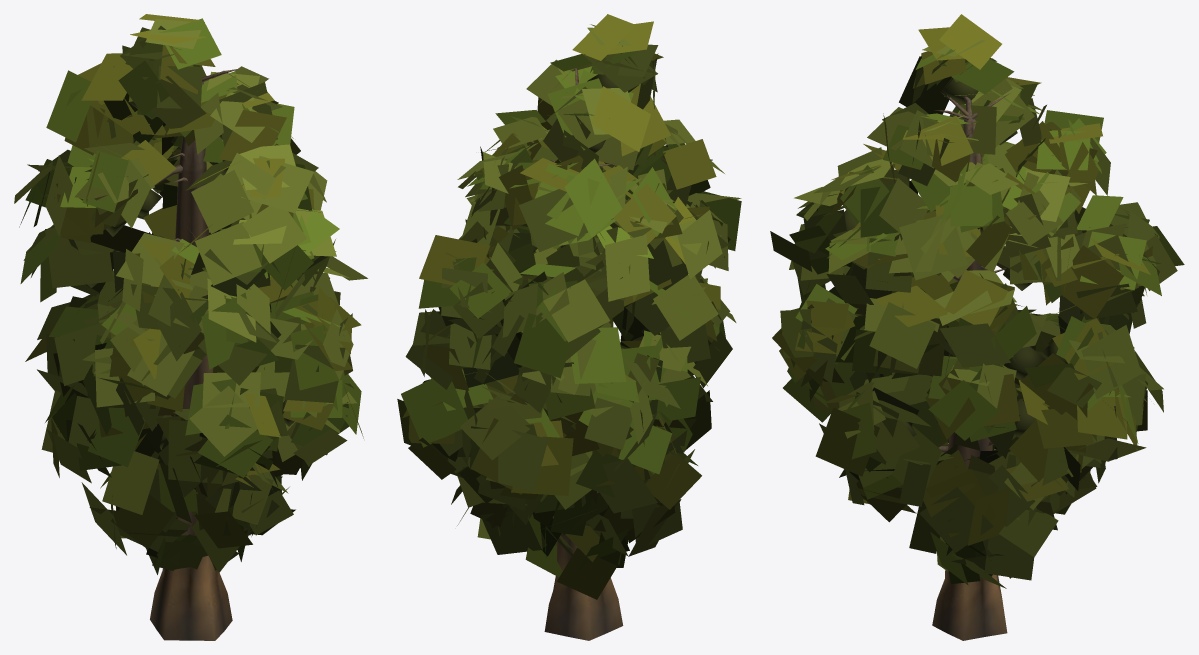
Rendered from tree-02-red.glb.
The picture shows the model from 3 angles, left to right: view 1: azimuth 30°, elevation 25°; view 2: azimuth 150°, elevation 25°; view 3: azimuth 270°, elevation 25°; orthographic projection. The views are drawn at different scales.
Visible parts, largest first — view 1: tree-02-red; view 2: tree-02-red; view 3: tree-02-red.
Boxes of the visible parts, x1,y1,x2,y2 form: tree-02-red: (14,14,367,640); tree-02-red: (397,14,741,640); tree-02-red: (770,14,1184,640).
Bounding box in the file's own units: 3.06 × 7.08 × 4.53.
3 materials, 1 textured.
